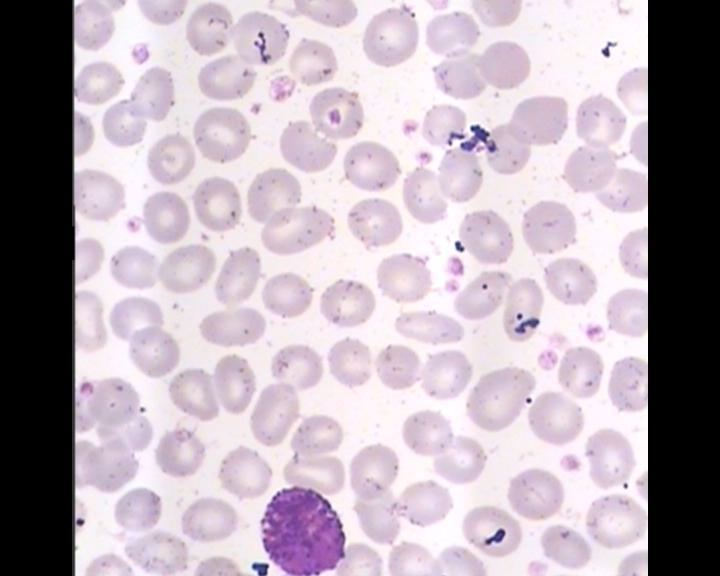baso: (257, 481, 348, 576)
